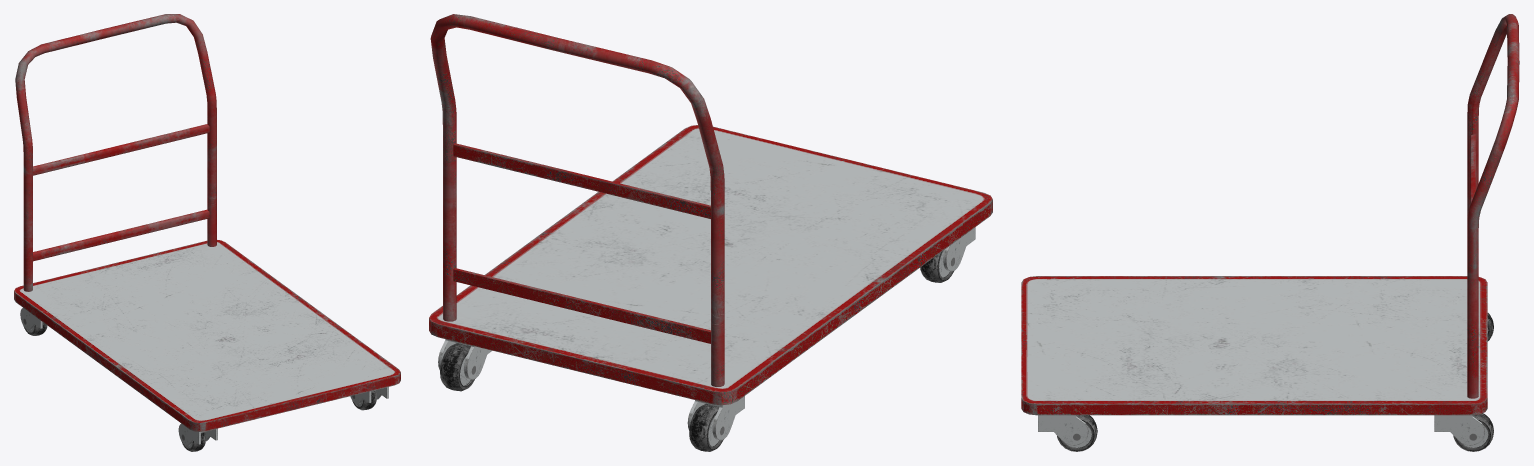
File: trolley.glb
The picture shows the model from 3 angles, left to right: view 1: azimuth 30°, elevation 25°; view 2: azimuth 150°, elevation 25°; view 3: azimuth 270°, elevation 25°; orthographic projection. The views are drawn at different scales.
Visible parts, largest first — view 1: Platform_Truck_lambert1_0, Platform_Truck_lambert2_0; view 2: Platform_Truck_lambert1_0, Platform_Truck_lambert2_0; view 3: Platform_Truck_lambert1_0, Platform_Truck_lambert2_0.
Part boxes in pixels (<box>): Platform_Truck_lambert1_0: <box>14,240,400,451</box>; Platform_Truck_lambert2_0: <box>15,14,216,291</box>; Platform_Truck_lambert1_0: <box>429,125,992,451</box>; Platform_Truck_lambert2_0: <box>430,14,724,386</box>; Platform_Truck_lambert1_0: <box>1021,276,1493,451</box>; Platform_Truck_lambert2_0: <box>1467,14,1519,398</box>.
Bounding box in the file's own units: 0.7305 × 0.9073 × 1.2.
1 material, 1 textured.
